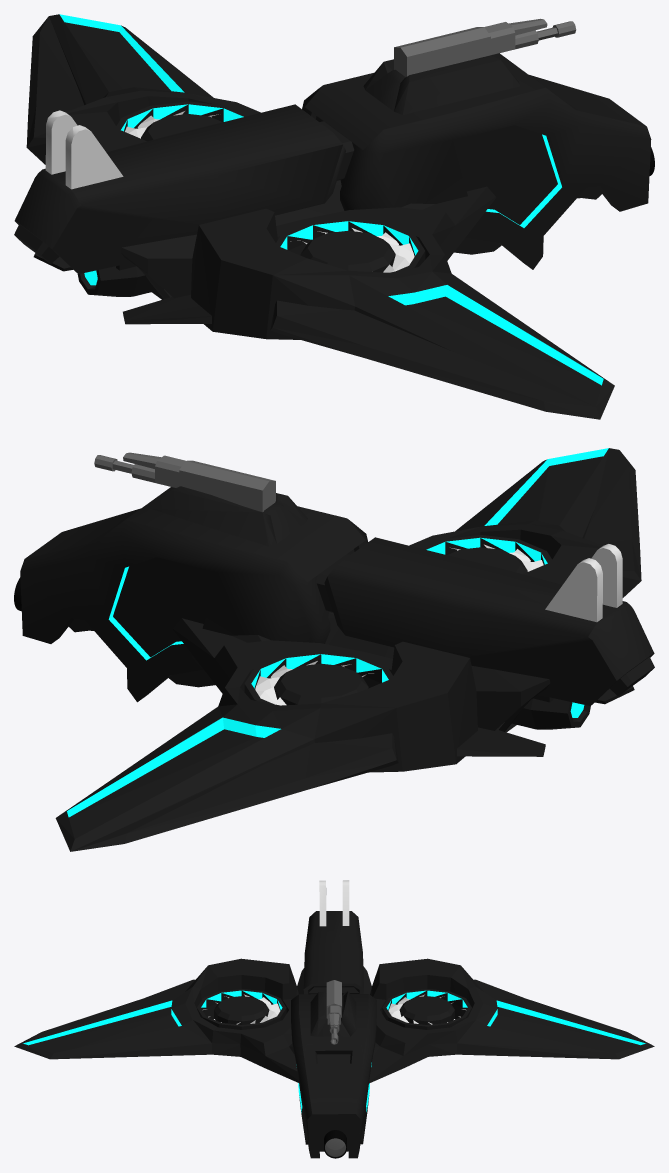
File: Air.glb
3 renders of one model, top to bottom at view 1: azimuth 30°, elevation 25°; view 2: azimuth 150°, elevation 25°; view 3: azimuth 270°, elevation 25°, orthographic. The views are drawn at different scales.
Visible parts, largest first — view 1: Mesh_0814001, Drone, Drone001, Mesh_0822001, propller_1; view 2: Drone, Mesh_0814001, Drone001, Mesh_0822001, Propllier_2; view 3: Drone, Mesh_0814001, Drone001, Mesh_0822001, Circle001.
Boxes of the visible parts, bbox=[...] form: Mesh_0814001: bbox=[14, 53, 651, 299]; Drone: bbox=[26, 14, 614, 419]; Drone001: bbox=[394, 18, 576, 76]; Mesh_0822001: bbox=[45, 110, 123, 189]; propller_1: bbox=[290, 228, 414, 272]; Drone: bbox=[55, 448, 641, 851]; Mesh_0814001: bbox=[20, 486, 654, 732]; Drone001: bbox=[94, 452, 275, 511]; Mesh_0822001: bbox=[545, 544, 622, 622]; Propllier_2: bbox=[255, 661, 373, 705]; Drone: bbox=[14, 958, 654, 1083]; Mesh_0814001: bbox=[291, 911, 376, 1158]; Drone001: bbox=[326, 980, 341, 1044]; Mesh_0822001: bbox=[319, 880, 349, 926]; Circle001: bbox=[324, 1130, 346, 1158].
Size of what is drawn, in the model's own units: 407 by 150 by 626.
